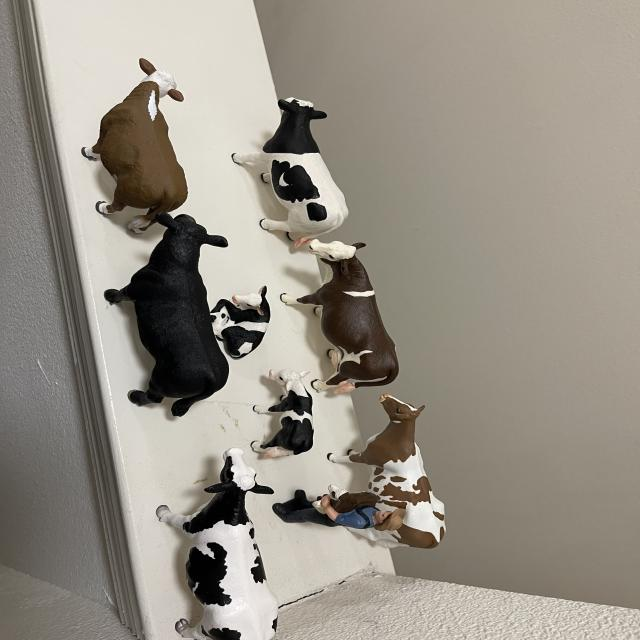cow: (319, 379, 499, 563), (104, 212, 229, 417), (267, 225, 405, 407), (154, 446, 279, 640), (221, 90, 354, 258), (84, 57, 189, 233), (250, 368, 317, 461), (208, 286, 277, 362), (324, 484, 381, 520)
person: (272, 503, 405, 531)
